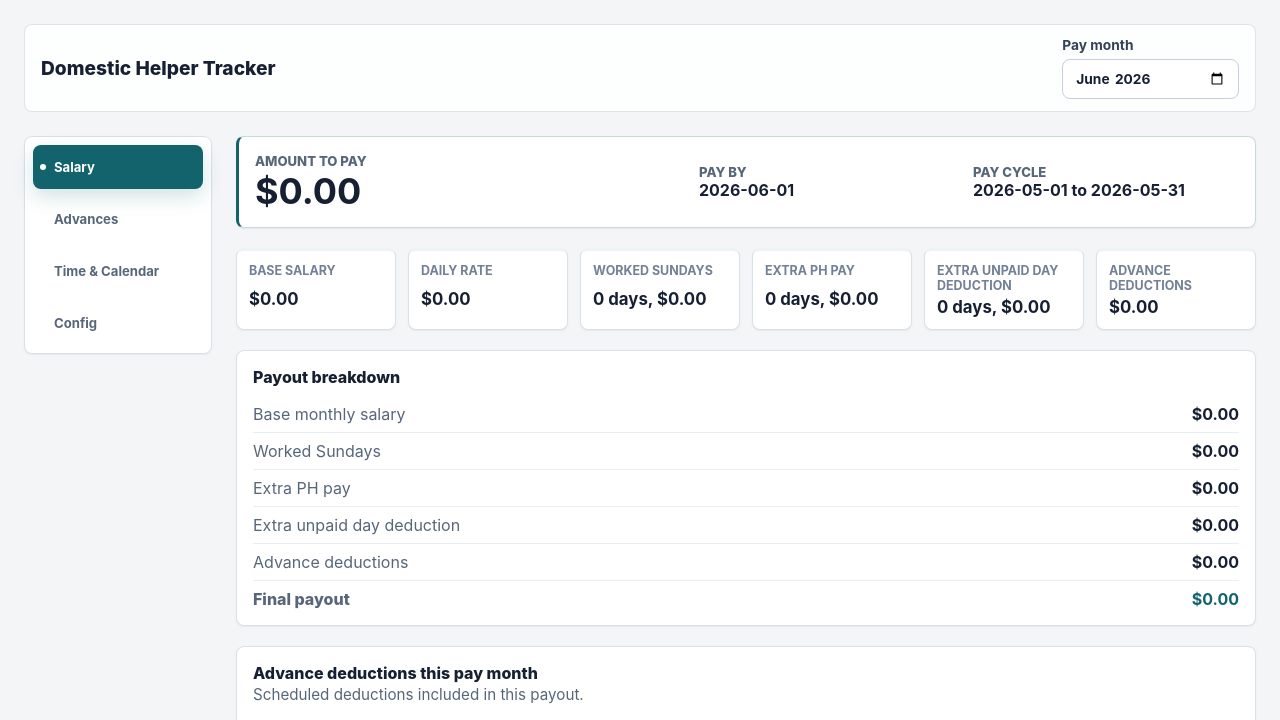
Scenario: App › navigates between feature screens
Click the button "Advances": (118, 219) top-left (33, 197), bottom-right (203, 241)
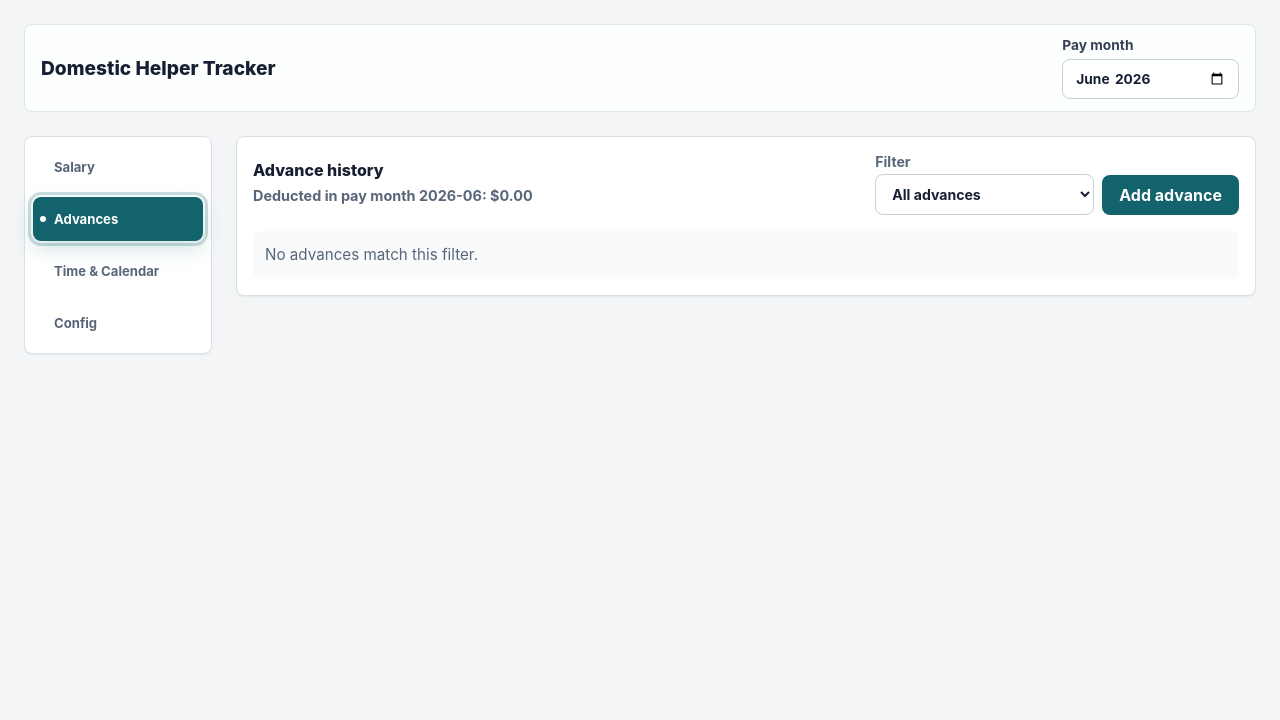
Click the button "Time & Calendar": (118, 271) top-left (33, 249), bottom-right (203, 293)
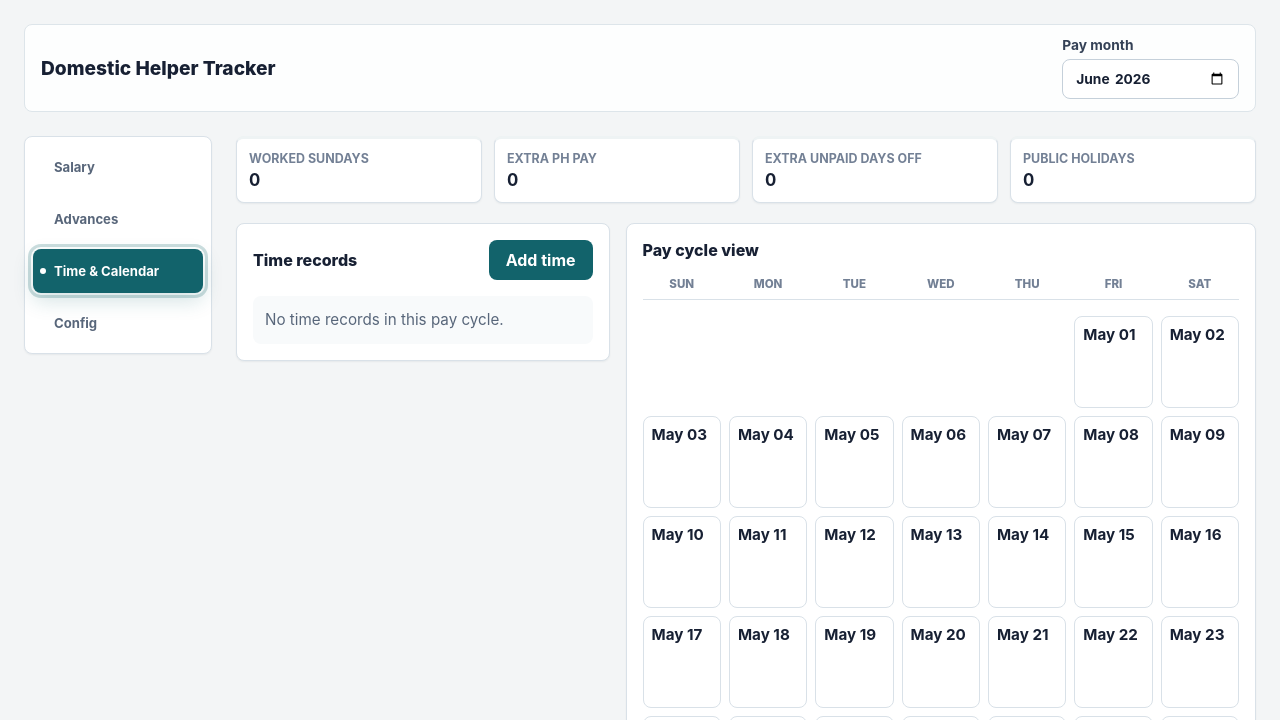
Click the button "Config": (118, 323) top-left (33, 301), bottom-right (203, 345)
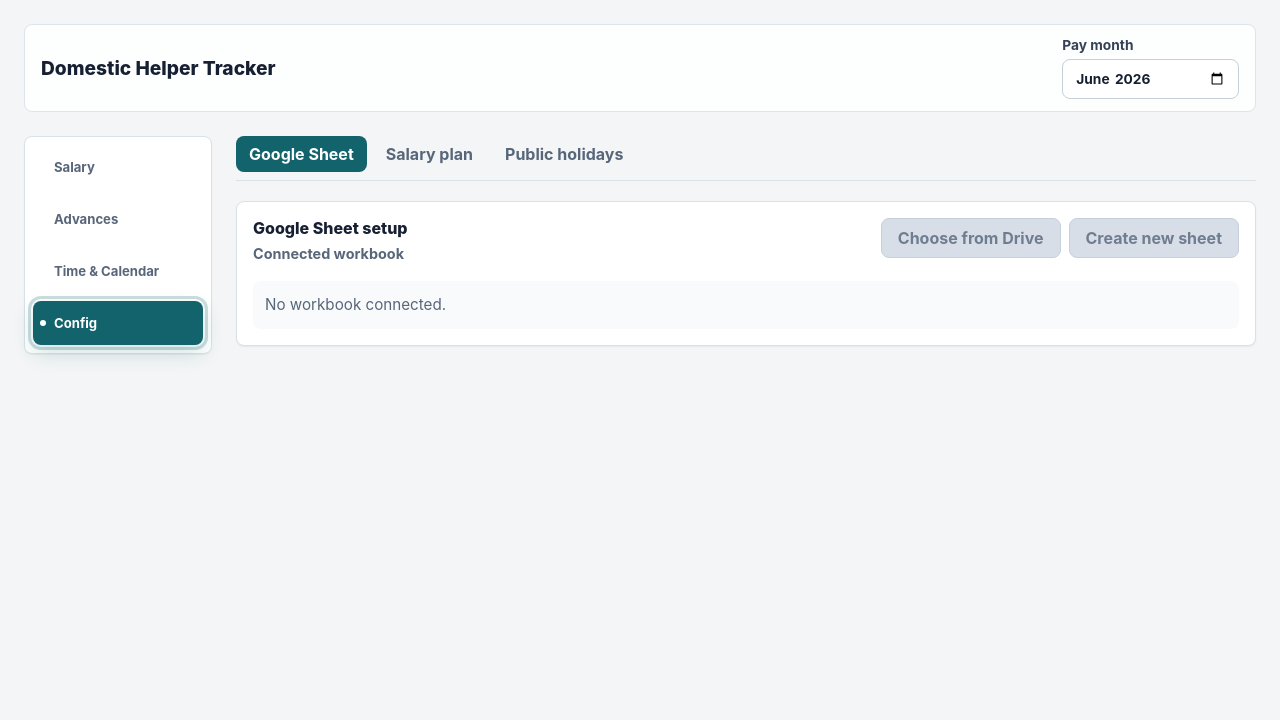
Expected: the navigation bar named "Configuration pages" is shown, top-left (236, 136), bottom-right (1256, 181)
